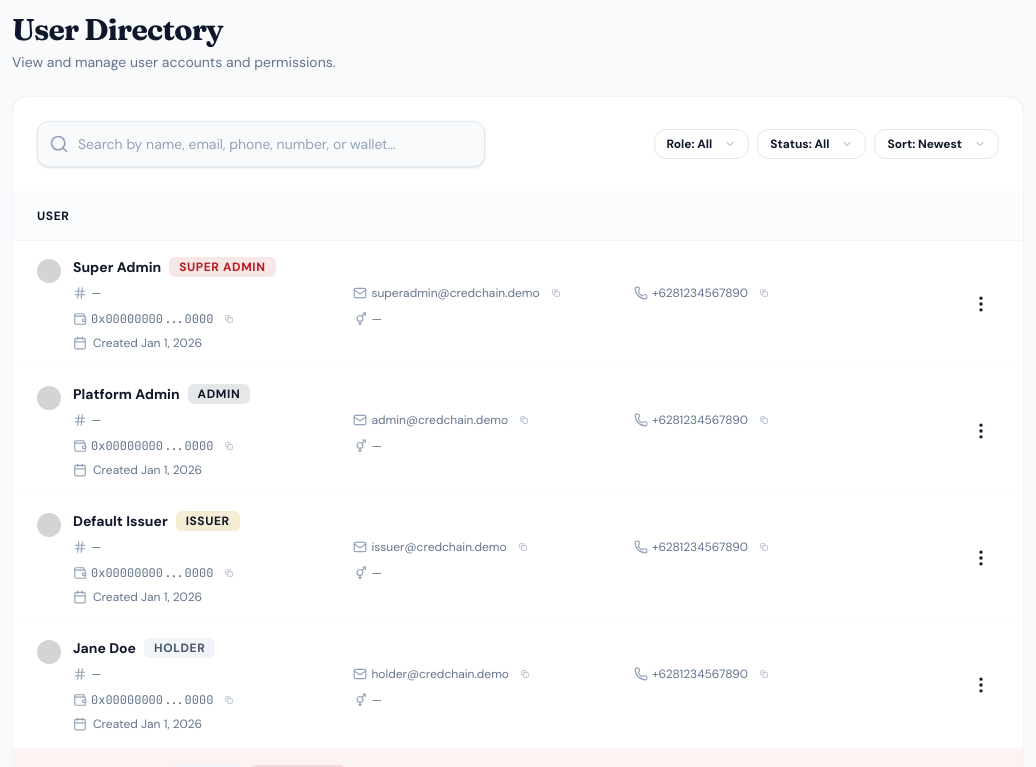
Test case: UserList › hides Edit and Delete options for issuer role on live users
Expected: the link "Jane Doe" is shown, [73,638,136,658]
Step 1. Click the button named "actions" in the row of "holder@credchain.demo" → (981,685), box [963,667,999,703]
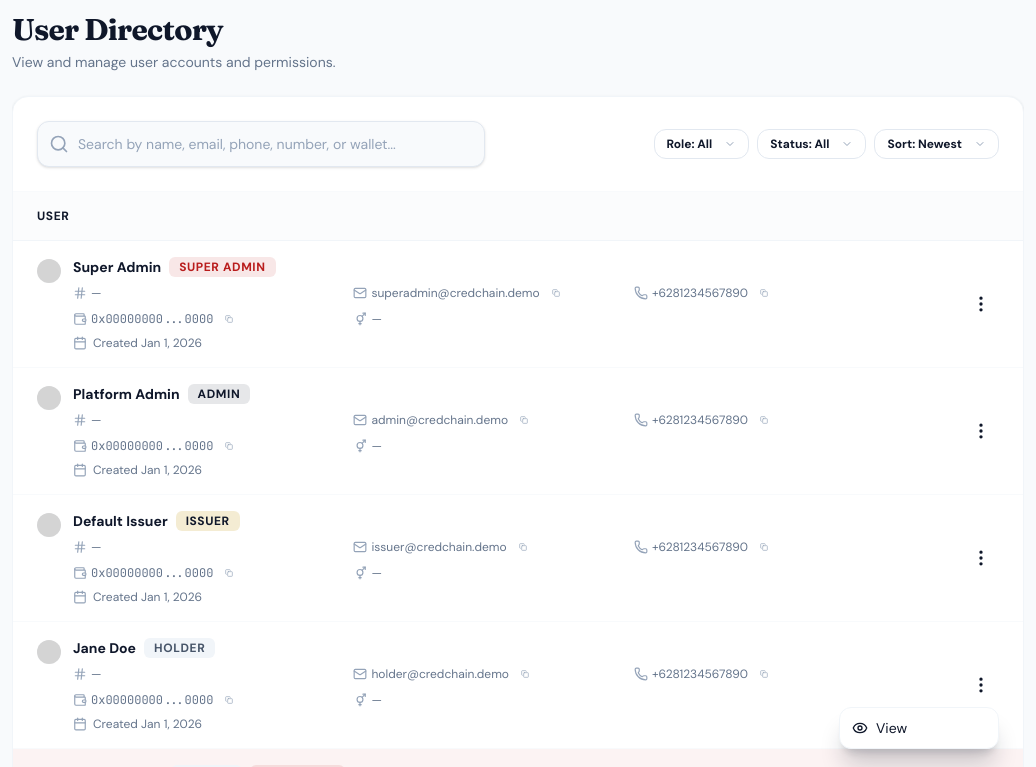
Expected: the menu item "View" is shown, [852,719,907,737]
